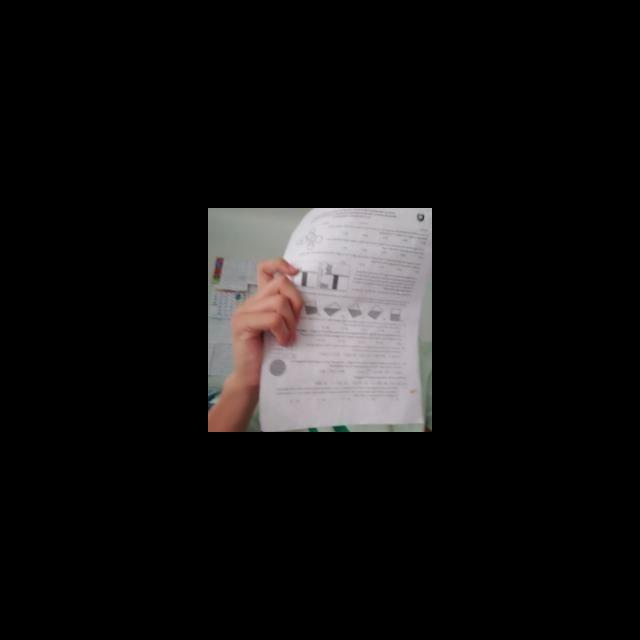paper: (257, 208, 431, 427)
